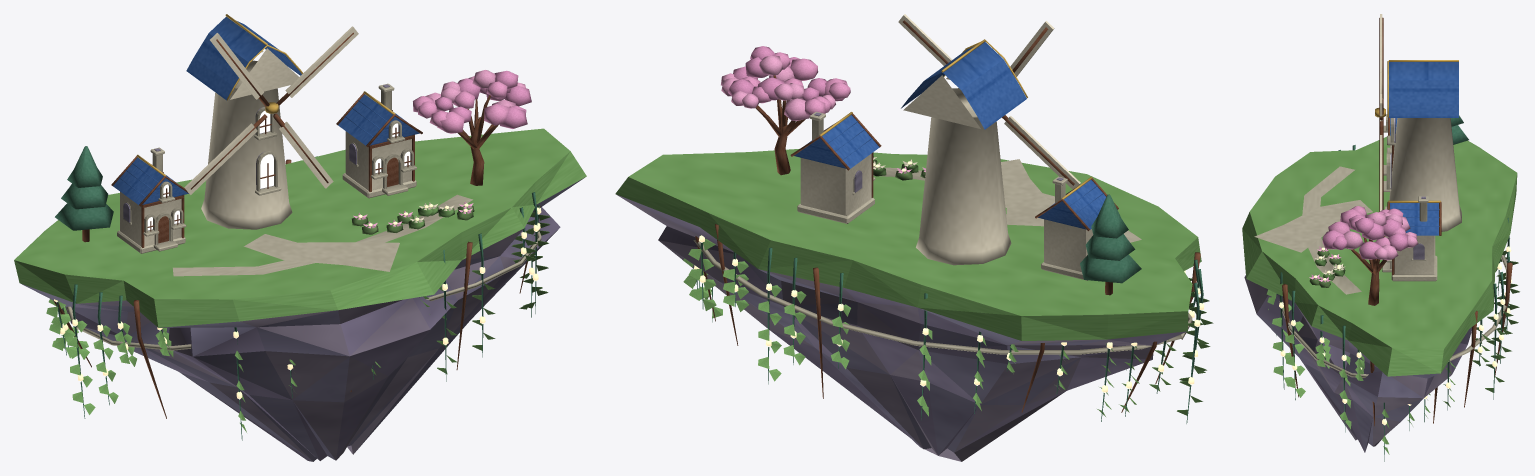
File: sky-windmill-balanced.glb
3 renders of one model, left to right at view 1: azimuth 30°, elevation 25°; view 2: azimuth 150°, elevation 25°; view 3: azimuth 270°, elevation 25°, orthographic. The views are drawn at different scales.
Parts seen in each view (by area): view 1: sky-windmill; view 2: sky-windmill; view 3: sky-windmill.
Part boxes in pixels (x1,y1,x2,y2): sky-windmill: (14,14,586,461); sky-windmill: (615,14,1213,461); sky-windmill: (1242,14,1519,461).
Size of the model in its own units: 17.17 by 13.39 by 8.76.
Materials: 10 (10 with a texture image).
